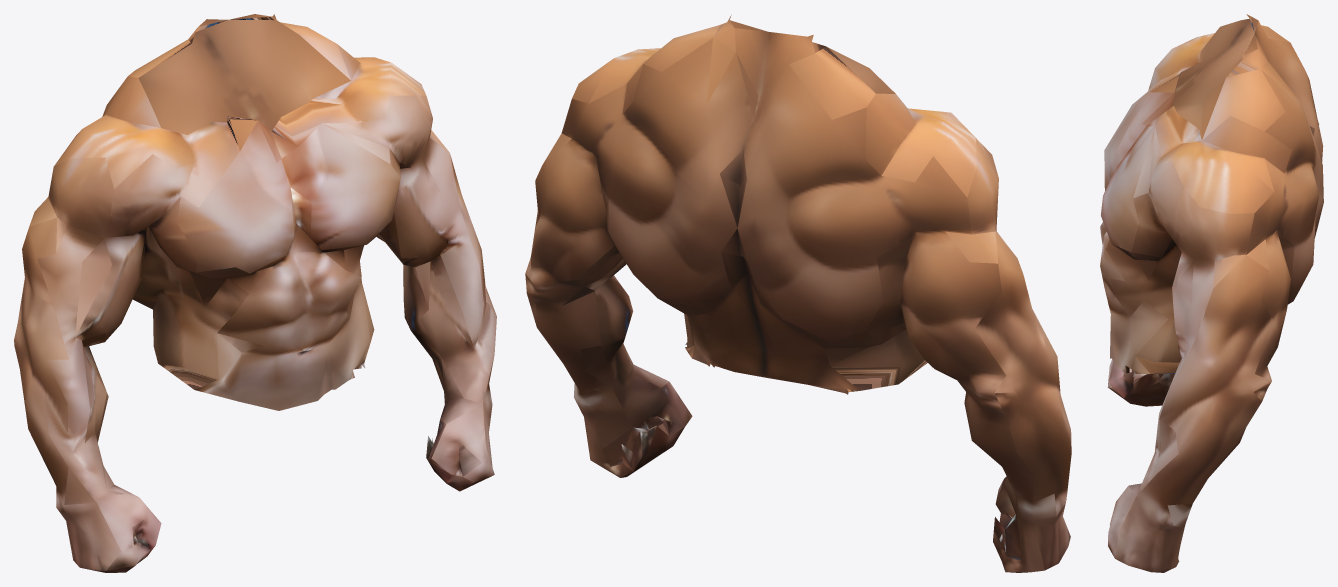
File: muscle.glb
3 renders of one model, left to right at view 1: azimuth 30°, elevation 25°; view 2: azimuth 150°, elevation 25°; view 3: azimuth 270°, elevation 25°, orthographic. The views are drawn at different scales.
Visible parts, largest first — view 1: model; view 2: model; view 3: model.
Boxes of the visible parts, box(x1,y1,x2,y2) form: model: box(14, 14, 496, 572); model: box(525, 14, 1071, 572); model: box(1100, 14, 1323, 572).
Bounding box in the file's own units: 0.8844 × 0.8685 × 0.385.
Materials: 1 (1 with a texture image).
